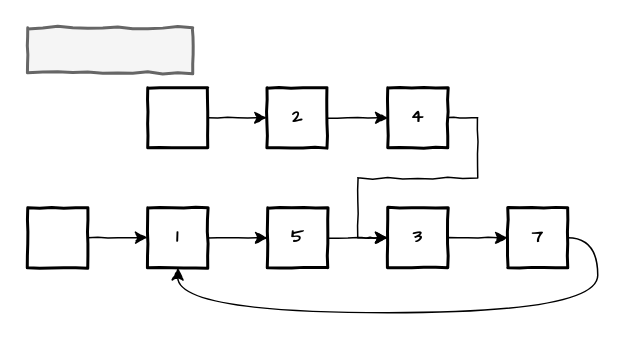
The diagram is 624 pixels wide and 339 high, and some of its shapes have lost their labels. Here are the shapes that lost their labels. From the top down, the box of each, then its label:
(26, 26, 194, 74): Example
(146, 86, 208, 148): L0
(26, 206, 88, 268): L1
